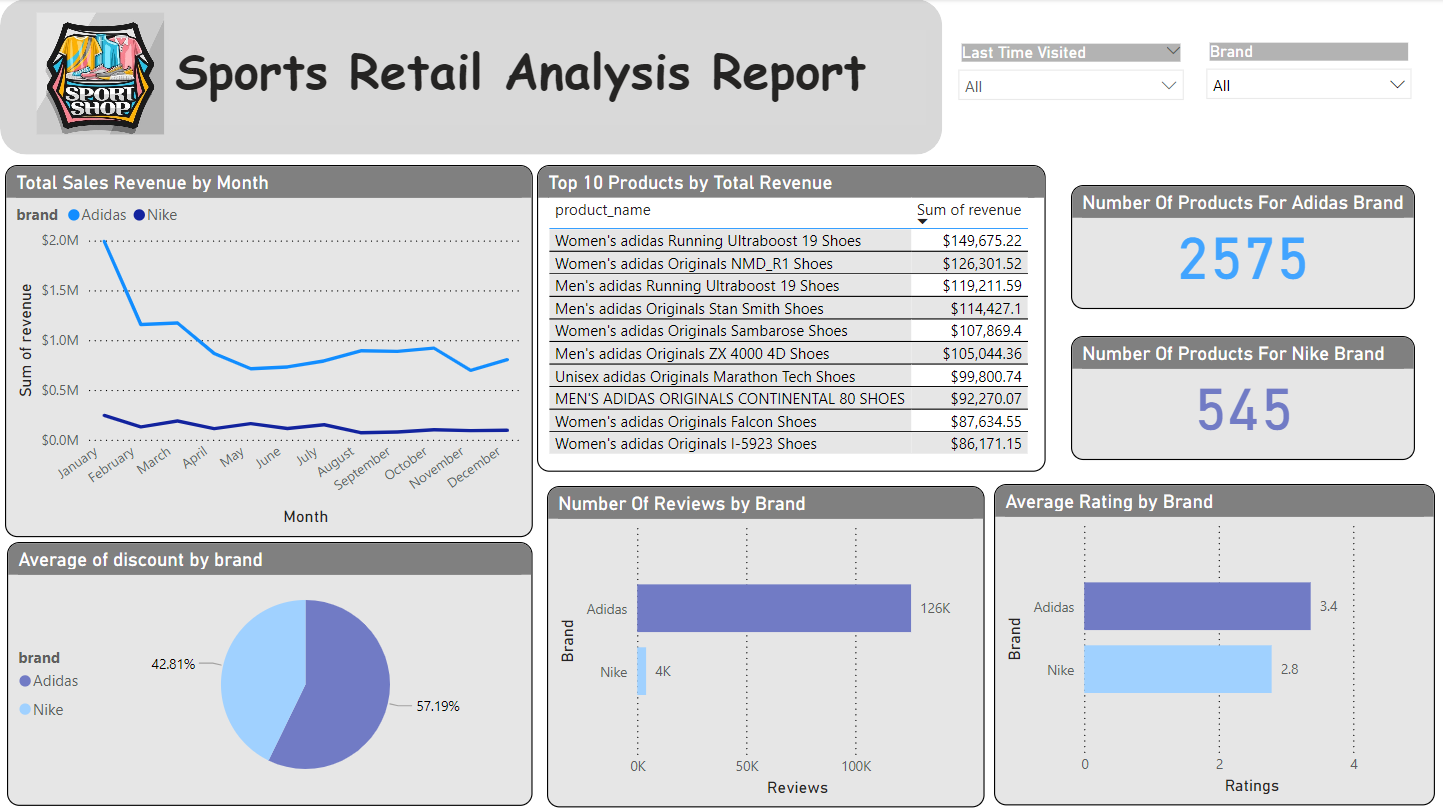

The dashboard page shown, as its layout file describes it:
{"tool":"powerbi","page":{"name":"Home","canvas":[1280,720],"ordinal":0},"visuals":[{"type":"textbox","box":[121.6,26.3,881.2,59.3],"z":2000},{"type":"shape","box":[0,0,835.5,138.1],"z":3000},{"type":"image","box":[27.2,6.8,122.6,117.7],"z":4000},{"type":"textbox","box":[149.8,27.2,671.1,83.6],"z":4001},{"type":"lineChart","title":"Total Sales Revenue by Month","fields":{"Y":["Sum(finance.revenue)"],"Category":["traffic.last_visited.Variation.Date Hierarchy.Month"],"Series":["brands.brand"]},"box":[4.1,147.6,468.3,330],"z":4002},{"type":"pieChart","fields":{"Y":["Avg(finance.discount)"],"Category":["brands.brand"]},"box":[6.1,481.7,466.3,233.7],"z":4003},{"type":"tableEx","title":"Top 10 Products by Total Revenue","fields":{"Values":["info.product_name","Sum(finance.revenue)"]},"box":[476.5,147.6,450.9,271.6],"z":4004},{"type":"slicer","fields":{"Values":["brands.brand"]},"box":[1059.6,33.4,202.3,68.7],"z":4005},{"type":"slicer","fields":{"Values":["traffic.last_visited.Variation.Date Hierarchy.Year"]},"box":[840.1,34.3,219.5,68.7],"z":4006},{"type":"kpi","title":"Number Of Products For Adidas Brand","fields":{"Indicator":["CountNonNull(info.product_name)"],"TrendLine":["brands.brand"]},"box":[950,165,305.4,109.7],"z":4007},{"type":"kpi","title":"Number Of Products For Nike Brand","fields":{"Indicator":["CountNonNull(info.product_name)"],"TrendLine":["brands.brand"]},"box":[950,299.2,305.4,109.7],"z":4008},{"type":"barChart","title":"Number Of Reviews by Brand","fields":{"Category":["brands.brand"],"Y":["Sum(reviews.reviews)"]},"box":[484.7,431.4,388.4,284.9],"z":4009},{"type":"barChart","title":"Average Rating by Brand","fields":{"Category":["brands.brand"],"Y":["Avg(reviews.rating)"]},"box":[881.3,430.4,391.5,284.9],"z":4010}]}

Visuals, with their boxes in screenshot pixels (x1, y1, x2, y2), scaled from the page's 1280x720 canvas onto the 1443x811 screenshot:
textbox: rect(137, 30, 1131, 96)
shape: rect(0, 0, 942, 156)
image: rect(31, 8, 169, 140)
textbox: rect(169, 31, 925, 125)
"Total Sales Revenue by Month" lineChart: rect(5, 166, 533, 538)
pieChart - Avg(finance.discount) x brands.brand: rect(7, 543, 533, 806)
"Top 10 Products by Total Revenue" tableEx: rect(537, 166, 1045, 472)
slicer - brands.brand: rect(1195, 38, 1423, 115)
slicer - traffic.last_visited.Variation.Date Hierarchy.Year: rect(947, 39, 1195, 116)
"Number Of Products For Adidas Brand" kpi: rect(1071, 186, 1415, 309)
"Number Of Products For Nike Brand" kpi: rect(1071, 337, 1415, 461)
"Number Of Reviews by Brand" barChart: rect(546, 486, 984, 807)
"Average Rating by Brand" barChart: rect(994, 485, 1435, 806)
